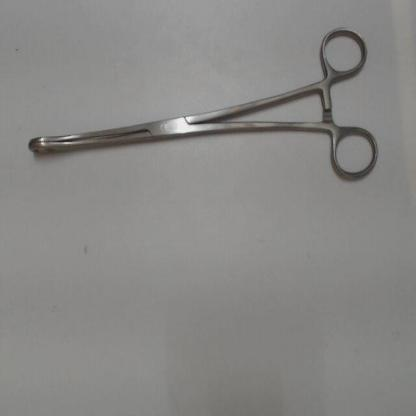Sponge Forceps: (20, 21, 380, 190)
